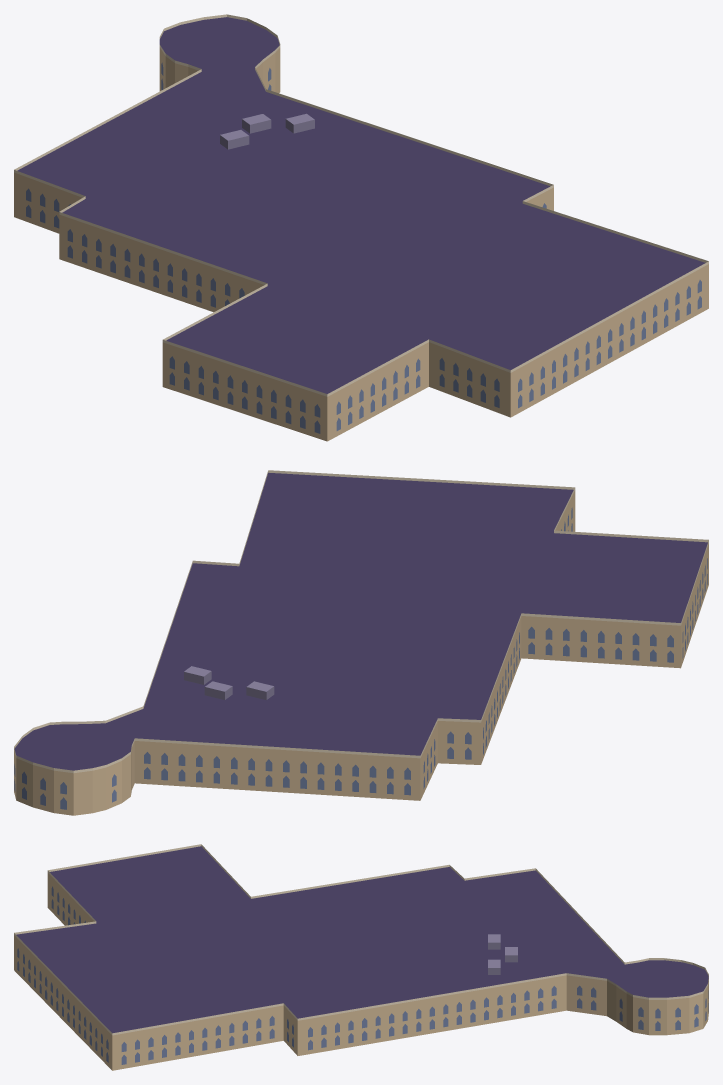
The model's file is b-046-day.glb.
The picture shows the model from 3 angles, top to bottom: view 1: azimuth 30°, elevation 25°; view 2: azimuth 150°, elevation 25°; view 3: azimuth 270°, elevation 25°; orthographic projection. The views are drawn at different scales.
Parts seen in each view (by area): view 1: campus/b-046-day-0; view 2: campus/b-046-day-0; view 3: campus/b-046-day-0.
Boxes of the visible parts, box(x1,y1,x2,y2) form: campus/b-046-day-0: box(14, 14, 708, 441); campus/b-046-day-0: box(14, 470, 708, 815); campus/b-046-day-0: box(14, 844, 708, 1070).
Size of the model in its own units: 104 by 10.9 by 162.
